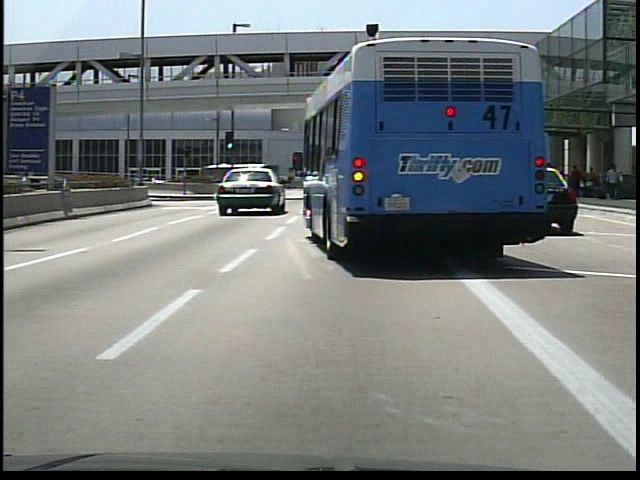person: (606, 165, 624, 201), (587, 167, 599, 200), (570, 164, 583, 189), (285, 173, 296, 192)
